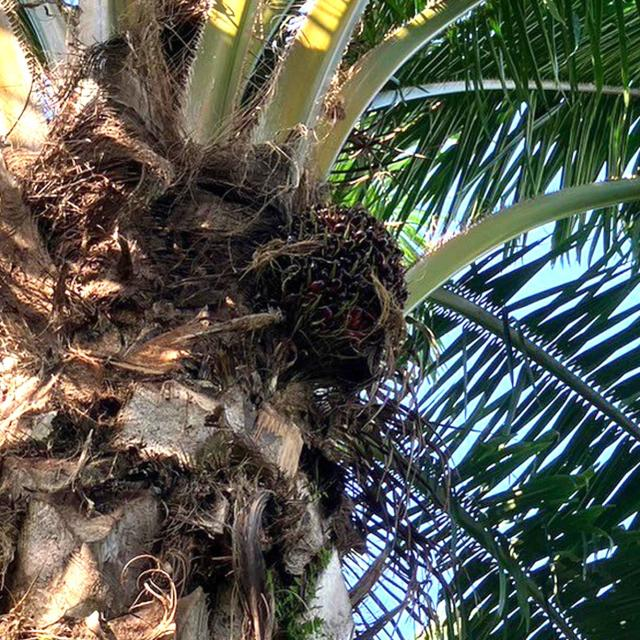ripe: (245, 192, 416, 392)
